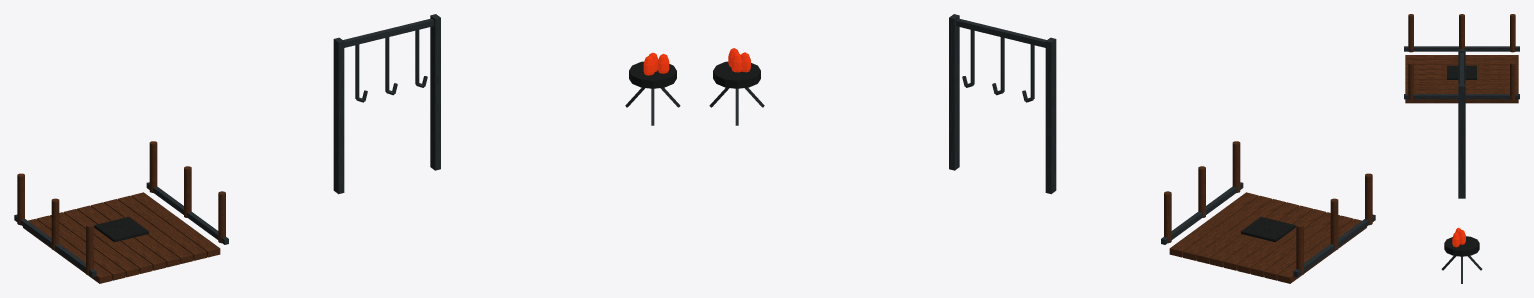
File: KIT_draven_black_deck.gltf
3 renders of one model, left to right at view 1: azimuth 30°, elevation 25°; view 2: azimuth 150°, elevation 25°; view 3: azimuth 270°, elevation 25°, orthographic. The views are drawn at different scales.
Visible parts, largest first — view 1: 01_deck, 02_rail, 03_brazier; view 2: 01_deck, 02_rail, 03_brazier; view 3: 01_deck, 02_rail, 03_brazier.
Part boxes in pixels (x1=…): 01_deck: x1=14, y1=141, x2=228, y2=283; 02_rail: x1=333, y1=14, x2=440, y2=194; 03_brazier: x1=625, y1=52, x2=680, y2=125; 01_deck: x1=1161, y1=141, x2=1375, y2=283; 02_rail: x1=949, y1=14, x2=1056, y2=194; 03_brazier: x1=709, y1=48, x2=764, y2=125; 01_deck: x1=1404, y1=14, x2=1519, y2=103; 02_rail: x1=1458, y1=49, x2=1465, y2=198; 03_brazier: x1=1441, y1=227, x2=1482, y2=283.
Bounding box in the file's own units: 13 × 3 × 2.8.
Materials: 4 (4 with a texture image).
